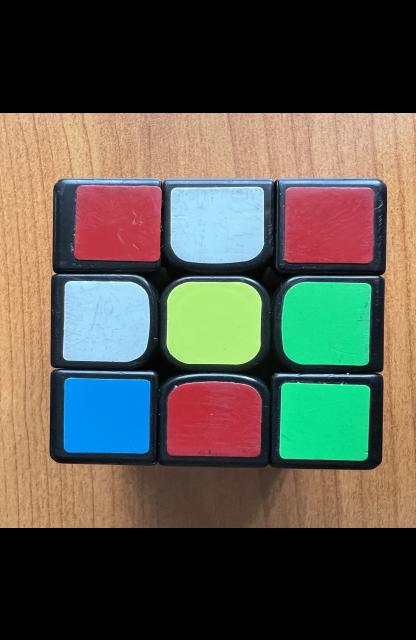Blue: (64, 376, 150, 452)
Green: (282, 281, 372, 364), (279, 382, 370, 460)
Red: (167, 381, 262, 456), (284, 186, 374, 263), (74, 185, 162, 260)
White: (170, 186, 264, 263), (63, 280, 150, 361)
Yellow: (166, 280, 262, 363)
